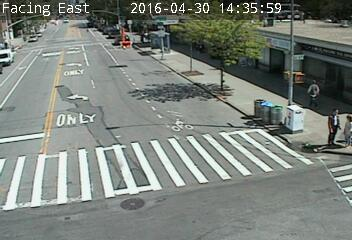neg: (180, 26, 211, 68), (135, 27, 161, 61), (219, 39, 245, 73), (84, 28, 106, 57)
pos: (317, 105, 347, 144), (299, 77, 323, 108)
